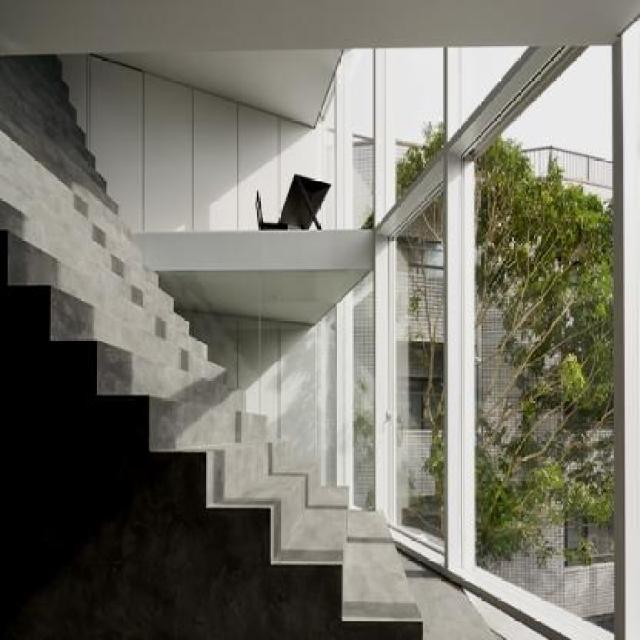stair: (0, 59, 522, 638)
